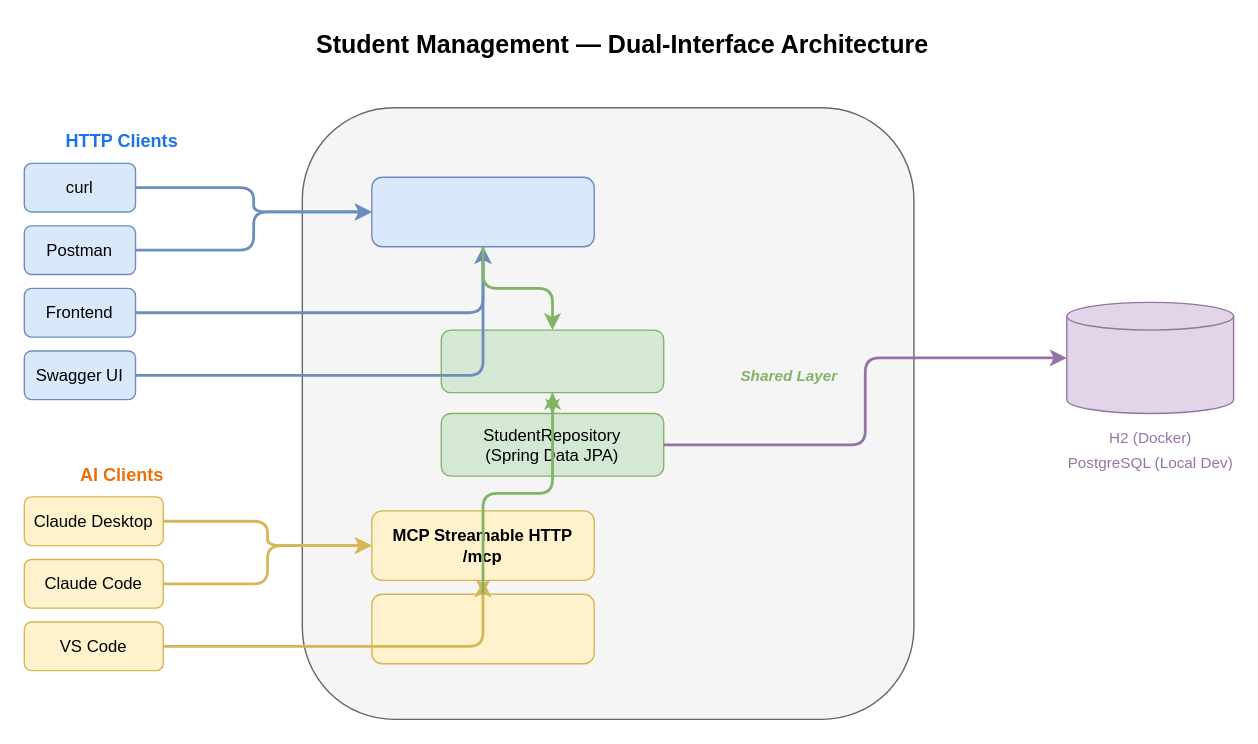
The diagram is 1258 pixels wide and 744 high, and some of its shapes have lost their labels. Here are the shapes that lost their labels. From the top down, the box of each, then its label:
(370, 176, 594, 247): REST Controllers /api/v1/students
(440, 329, 664, 393): StudentService
(1065, 301, 1234, 414): Database
(301, 106, 914, 719): Spring Boot Application (:8080)
(370, 593, 594, 664): StudentMcpTools (@Tool methods)
